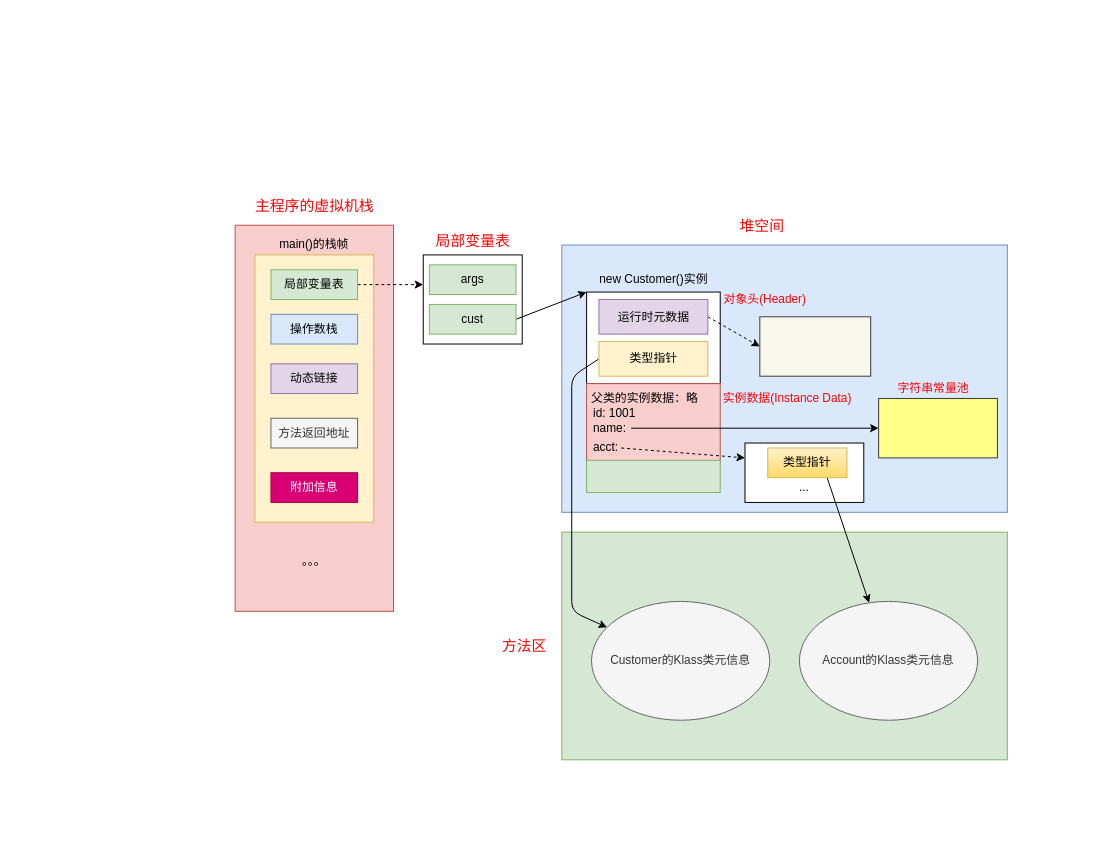
Some shapes in this 1113 by 845 pixel diagram are drawn without their labels. The box of each missing label's shape, as (x1, y1, x2, y2) in pixels:
匿名客户: (878, 397, 997, 458)
哈希值 GC分代年龄 锁状态标志 ...: (759, 316, 871, 376)
对齐填充(Padding): (586, 459, 720, 493)
